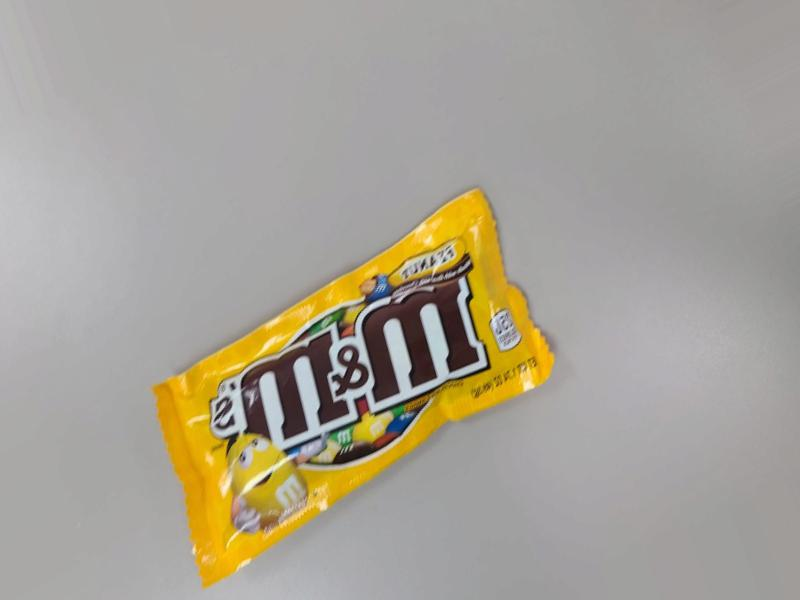m&m: (191, 141, 489, 570)
